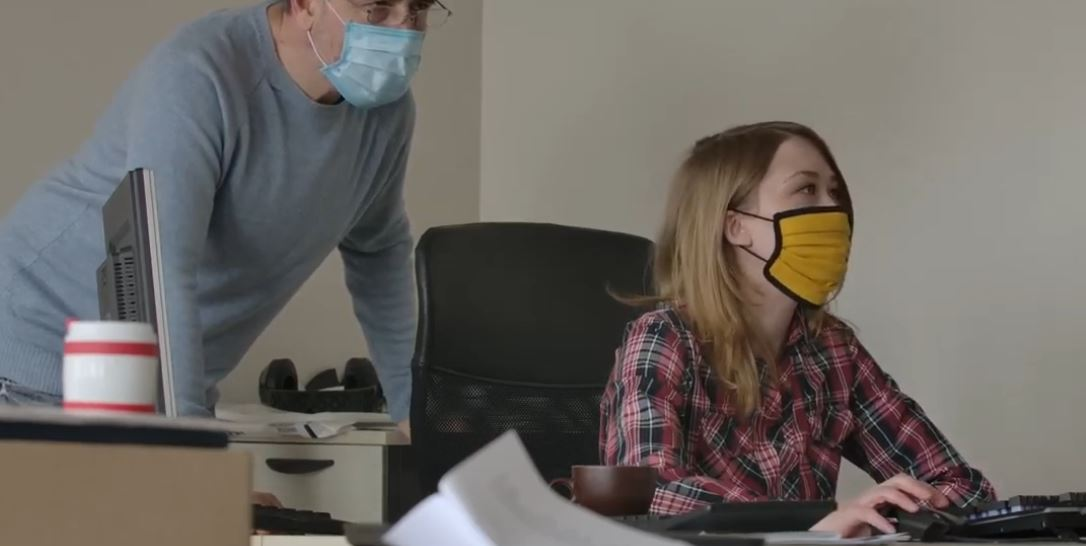with_mask: (751, 154, 854, 306), (327, 4, 427, 104)
